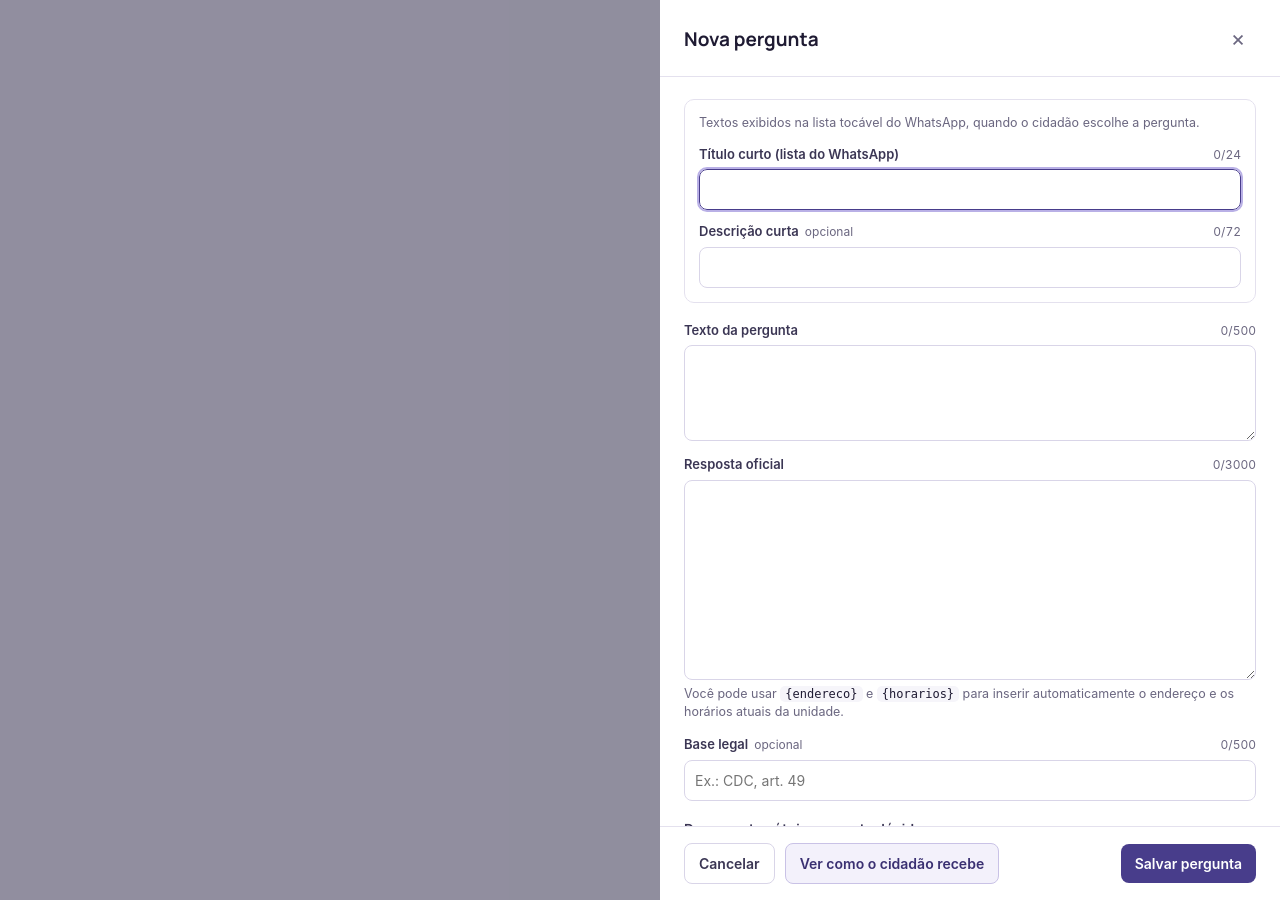
Test: ContentQuestionForm › o contador do texto da pergunta está sempre visível e acompanha o que é digitado
expect the text "0/500" in the row of "Texto da pergunta" is shown: met, box left=1220, top=323, right=1256, bottom=338
Type "abcde" into the text box labelled "Texto da pergunta" at (970, 393), box left=684, top=345, right=1256, bottom=441
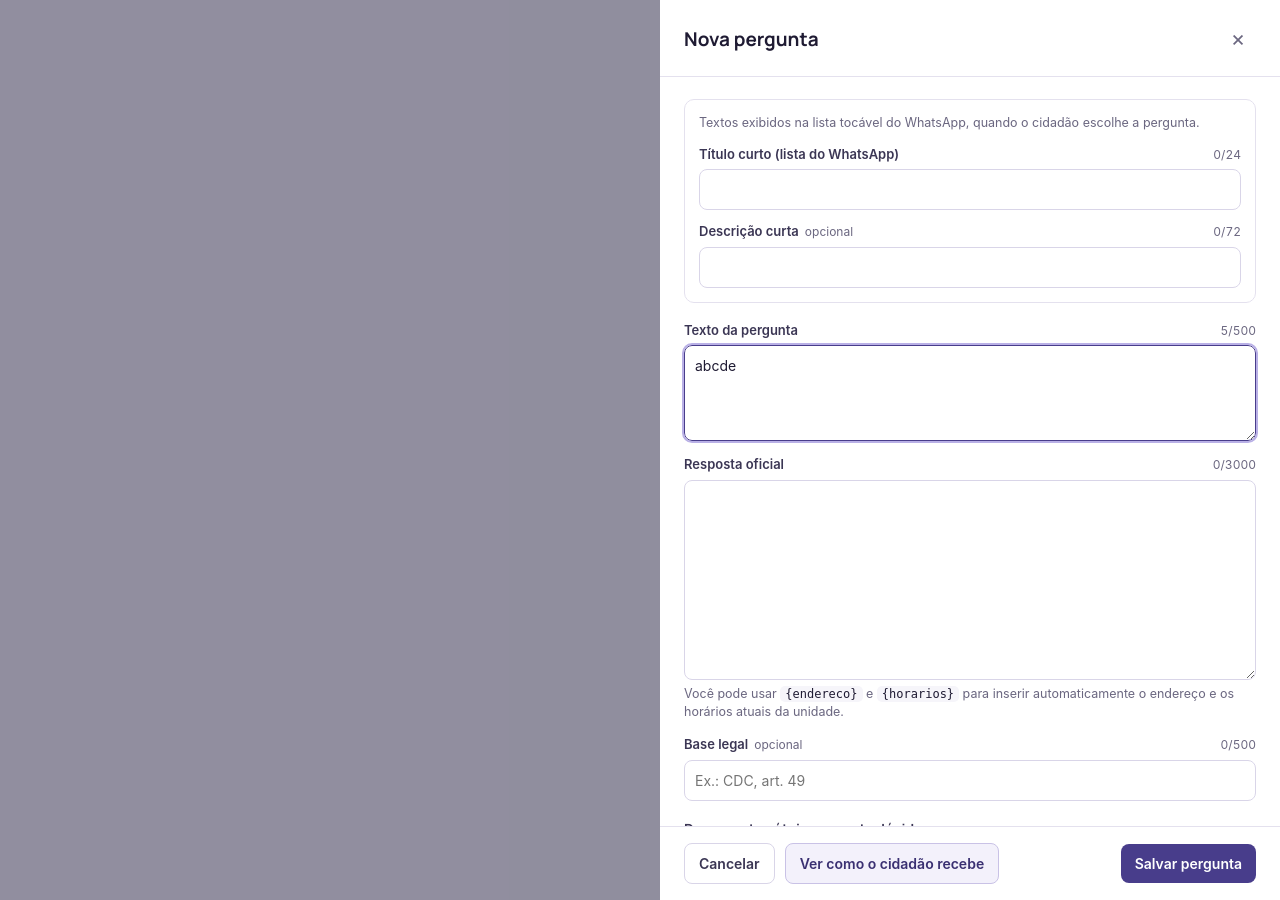
expect the text "5/500" is shown: met, box left=1220, top=322, right=1256, bottom=340
